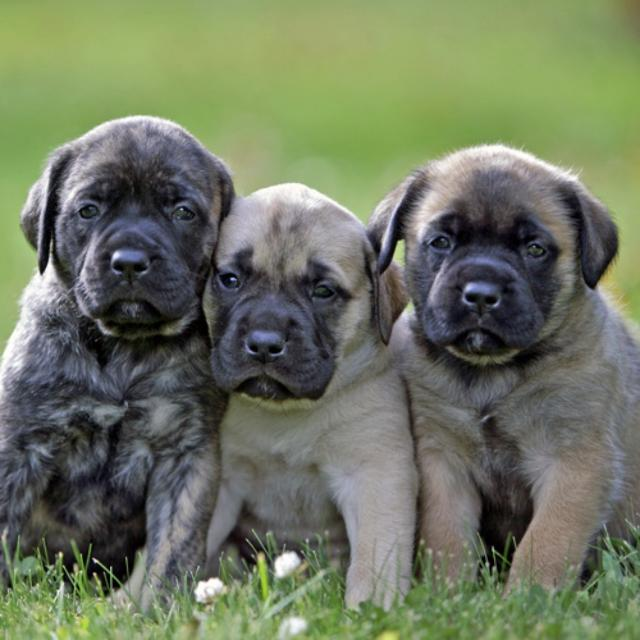mastiff: (366, 143, 640, 604), (1, 114, 237, 620), (202, 182, 420, 616)
